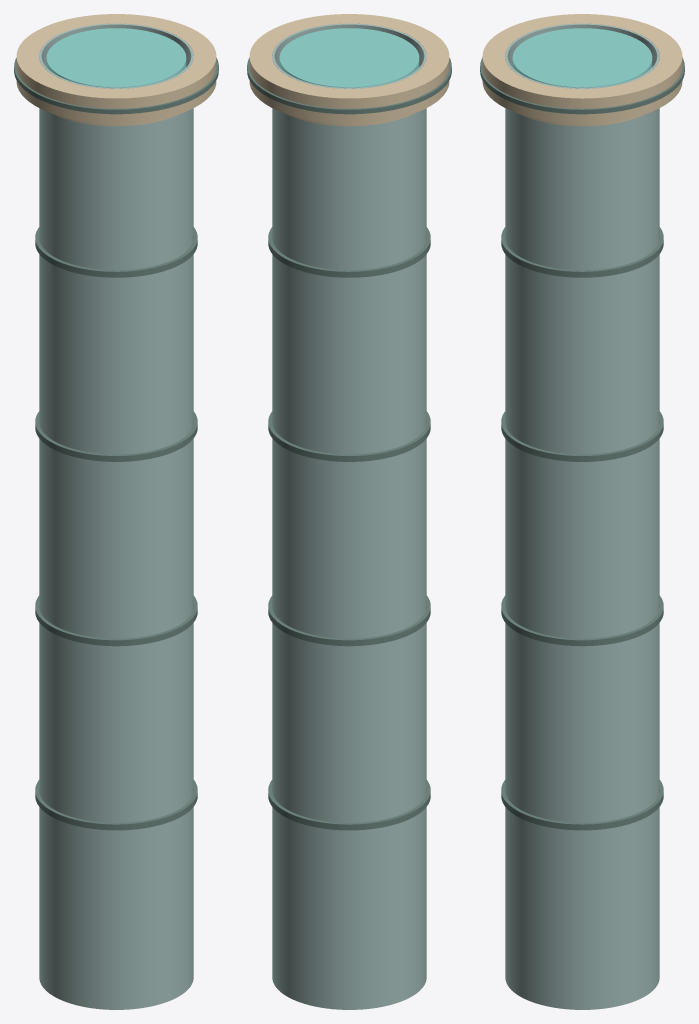
3 views of the same model, side by side, from view 1: azimuth 30°, elevation 25°; view 2: azimuth 150°, elevation 25°; view 3: azimuth 270°, elevation 25° (orthographic).
Visible parts, largest first — view 1: Node_Tube, Node_Tube_Bands, Node_Tube_Goo; view 2: Node_Tube, Node_Tube_Bands, Node_Tube_Goo; view 3: Node_Tube, Node_Tube_Bands, Node_Tube_Goo.
Boxes of the visible parts, <box> form: Node_Tube: <box>39,23,193,1009</box>; Node_Tube_Bands: <box>14,14,218,830</box>; Node_Tube_Goo: <box>46,28,186,87</box>; Node_Tube: <box>272,23,426,1009</box>; Node_Tube_Bands: <box>247,14,451,830</box>; Node_Tube_Goo: <box>279,28,419,87</box>; Node_Tube: <box>505,23,659,1009</box>; Node_Tube_Bands: <box>480,14,684,830</box>; Node_Tube_Goo: <box>512,28,652,87</box>.
Size of the model in its own units: 2.52 by 12.5 by 2.52.
